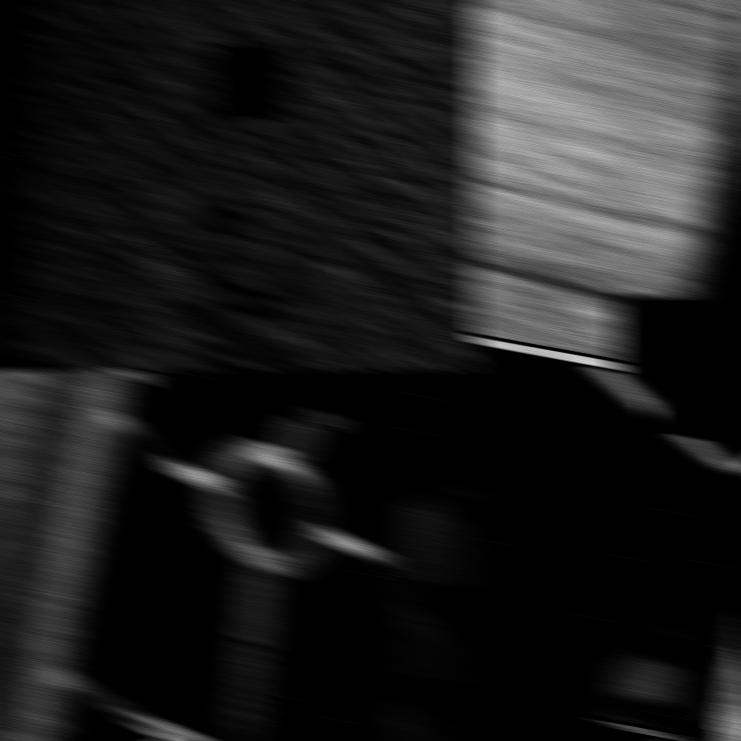Airbag: (0, 369, 480, 741), (0, 0, 480, 371), (468, 0, 741, 371), (468, 369, 741, 740)
